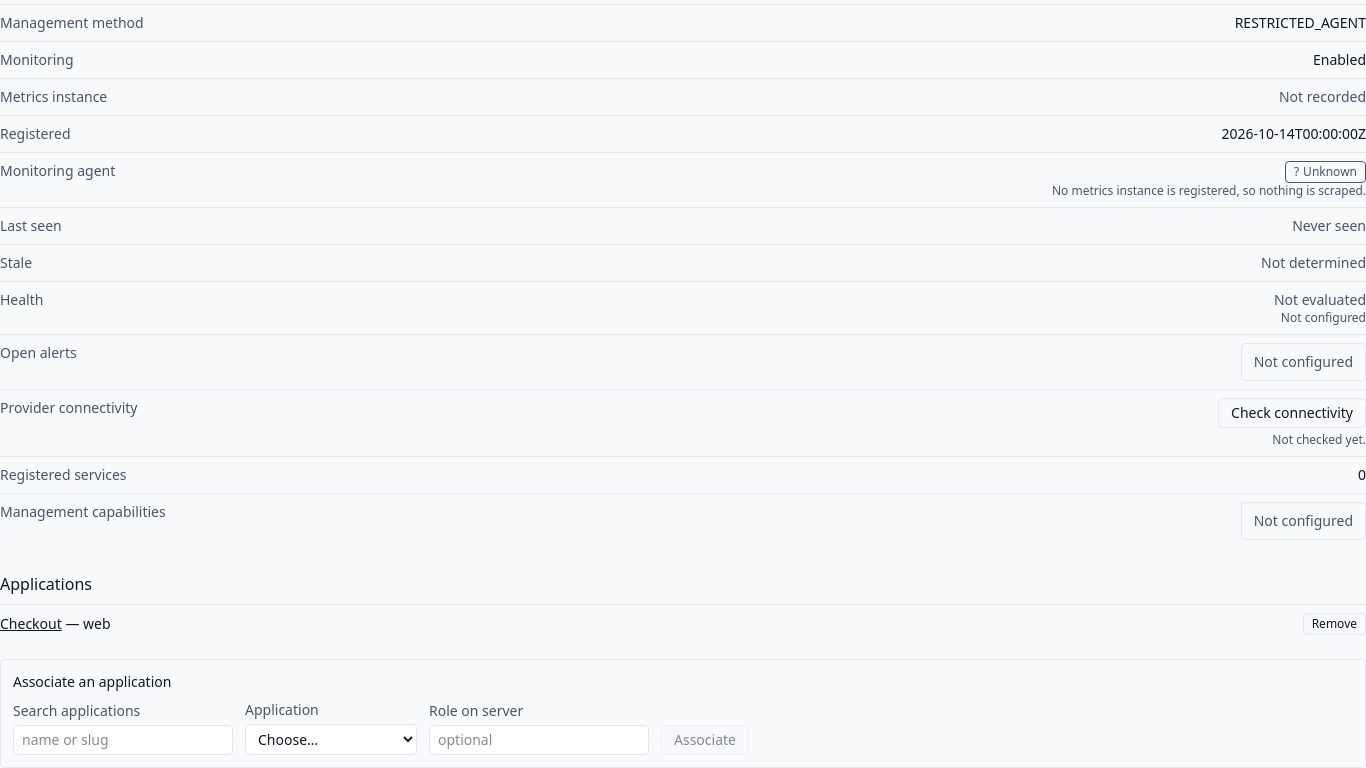
Scenario: ServerDetail associations › shows the backend’s duplicate message instead of filtering candidates
This screenshot has width=1366, height=768.
(page scrolled)
Select "Checkout (checkout)" in the dropdown labelled "Application": (331, 740) [245,724,417,755]
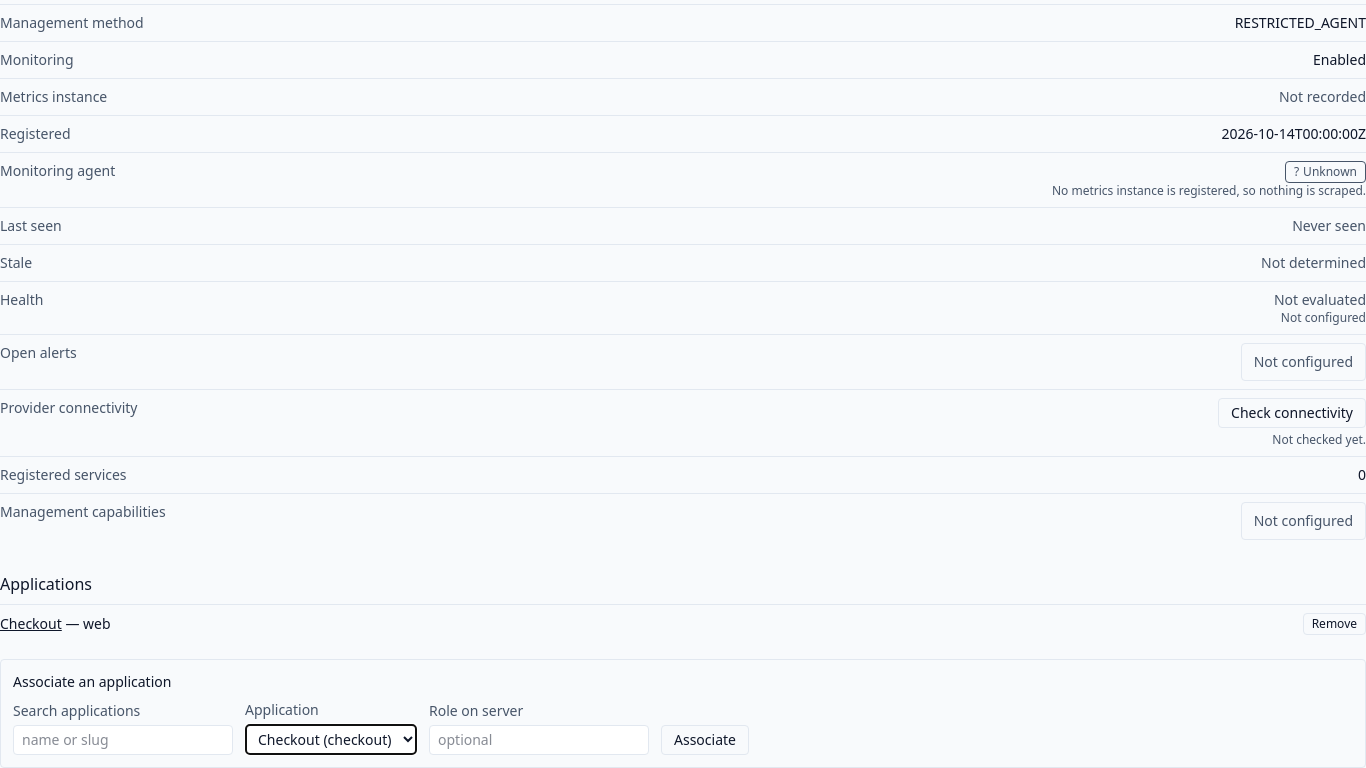
Click the button "Associate": (705, 740) [661,725,749,755]
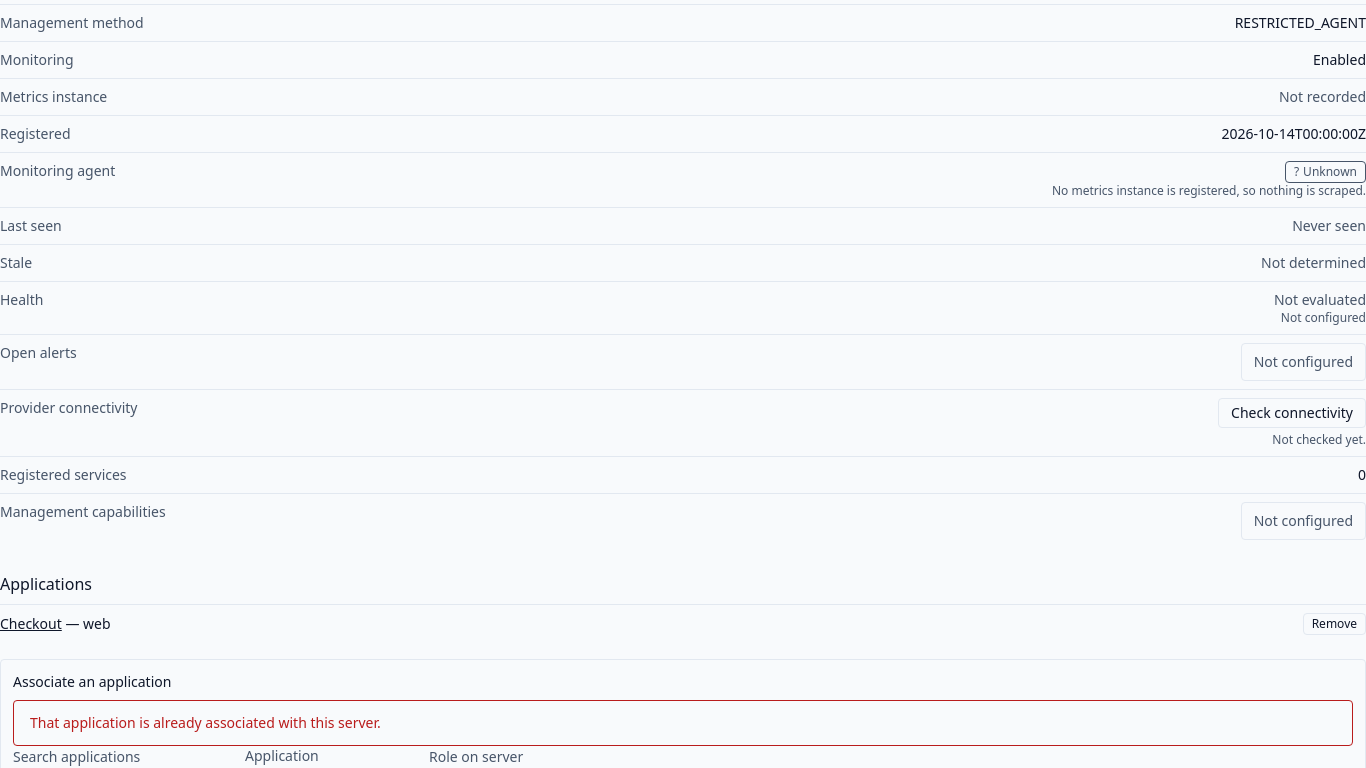
expect the message shows "already associated": met, box [30,713,381,732]
